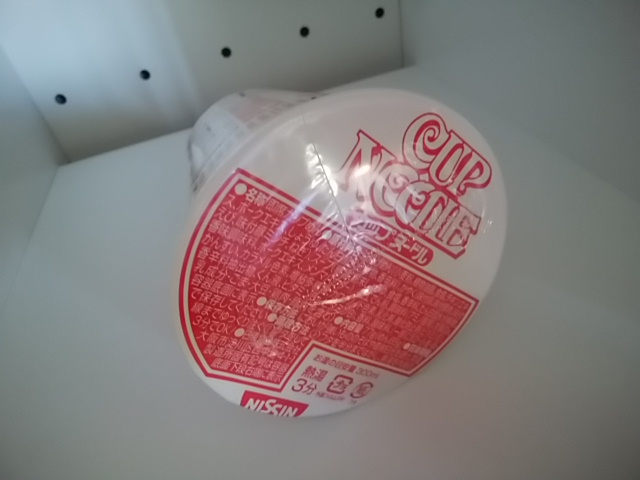cup-ramen: (166, 84, 509, 426)
